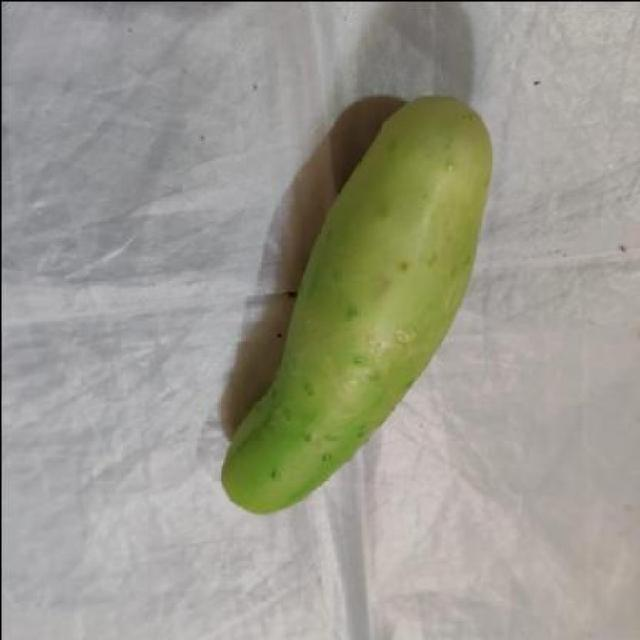cucumber: (218, 98, 490, 514)
